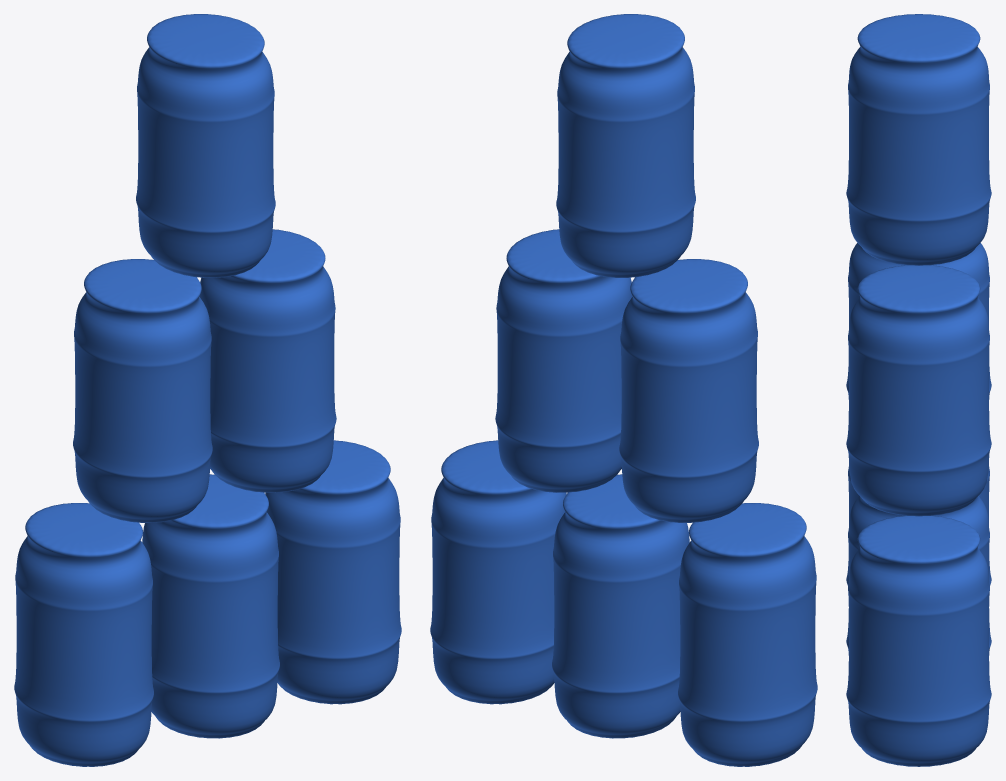
The model's file is barrels.fbx.
3 views of the same model, side by side, from view 1: azimuth 30°, elevation 25°; view 2: azimuth 150°, elevation 25°; view 3: azimuth 270°, elevation 25° (orthographic). The views are drawn at different scales.
Visible parts, largest first — view 1: Cylinder.005, Cylinder.004, Cylinder, Cylinder.001, Cylinder.003, Cylinder.002; view 2: Cylinder.005, Cylinder.004, Cylinder, Cylinder.001, Cylinder.003, Cylinder.002; view 3: Cylinder.005, Cylinder.002, Cylinder.003, Cylinder.004, Cylinder.001, Cylinder.
Part boxes in pixels (bbox=[...]): Cylinder.005: bbox=[136, 14, 275, 277]; Cylinder.004: bbox=[73, 259, 212, 522]; Cylinder: bbox=[14, 503, 153, 766]; Cylinder.001: bbox=[142, 474, 279, 738]; Cylinder.003: bbox=[199, 229, 336, 492]; Cylinder.002: bbox=[265, 440, 401, 704]; Cylinder.005: bbox=[556, 14, 695, 277]; Cylinder.004: bbox=[619, 259, 758, 522]; Cylinder: bbox=[678, 503, 817, 766]; Cylinder.001: bbox=[552, 474, 689, 738]; Cylinder.003: bbox=[495, 229, 632, 492]; Cylinder.002: bbox=[430, 440, 566, 704]; Cylinder.005: bbox=[846, 14, 991, 265]; Cylinder.002: bbox=[846, 515, 991, 766]; Cylinder.003: bbox=[846, 265, 991, 516]; Cylinder.004: bbox=[846, 243, 991, 399]; Cylinder.001: bbox=[846, 496, 991, 655]; Cylinder: bbox=[846, 465, 991, 585].
Bounding box in the file's own units: 138 × 246 × 49.14.
